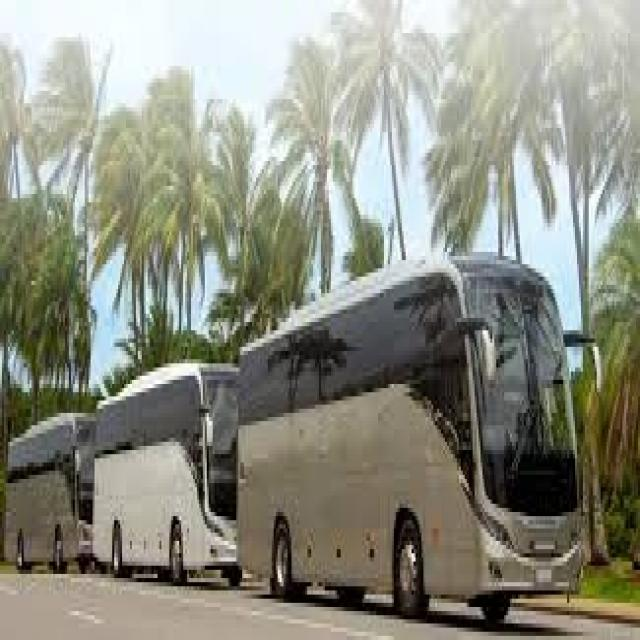bus: (225, 237, 592, 625), (85, 359, 247, 596), (4, 391, 94, 582)
